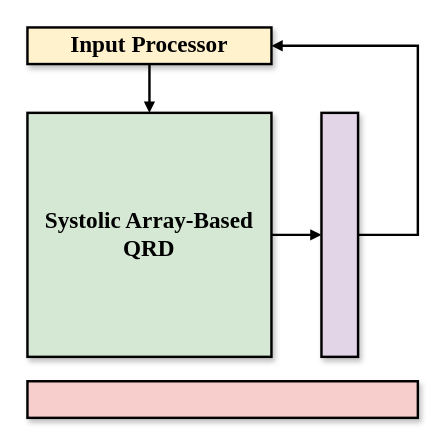
The diagram is 447 pixels wide and 448 high, and some of its shapes have lost their labels. The shapes that lost their labels are listed below. From the top down, each one's centre as x and y in pixels, then its label:
pixel 340 236: Output Processor
pixel 223 401: EVD Controller
